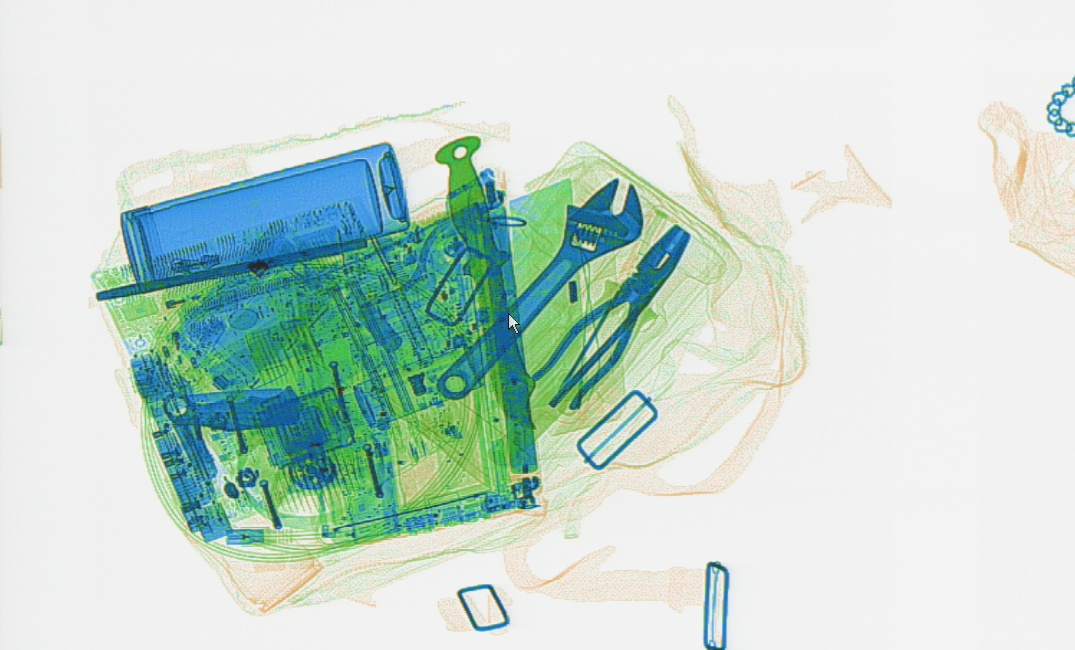knife: (435, 134, 536, 430), (161, 384, 303, 432)
